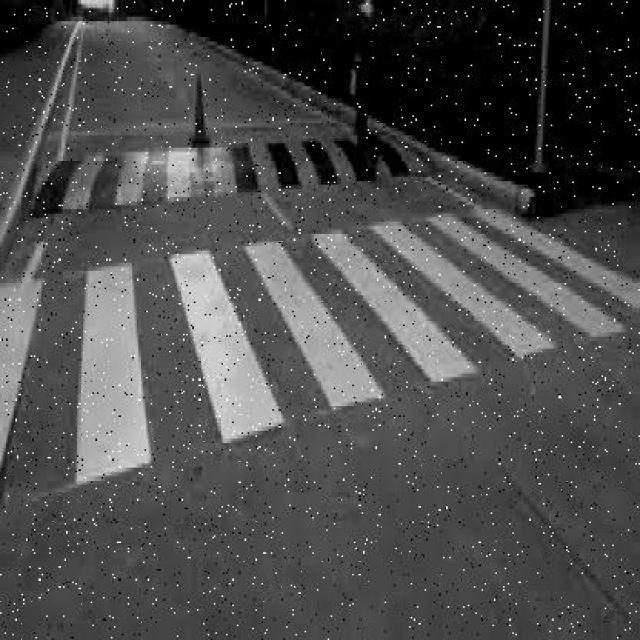intact_crosswalk: (0, 202, 640, 505)
